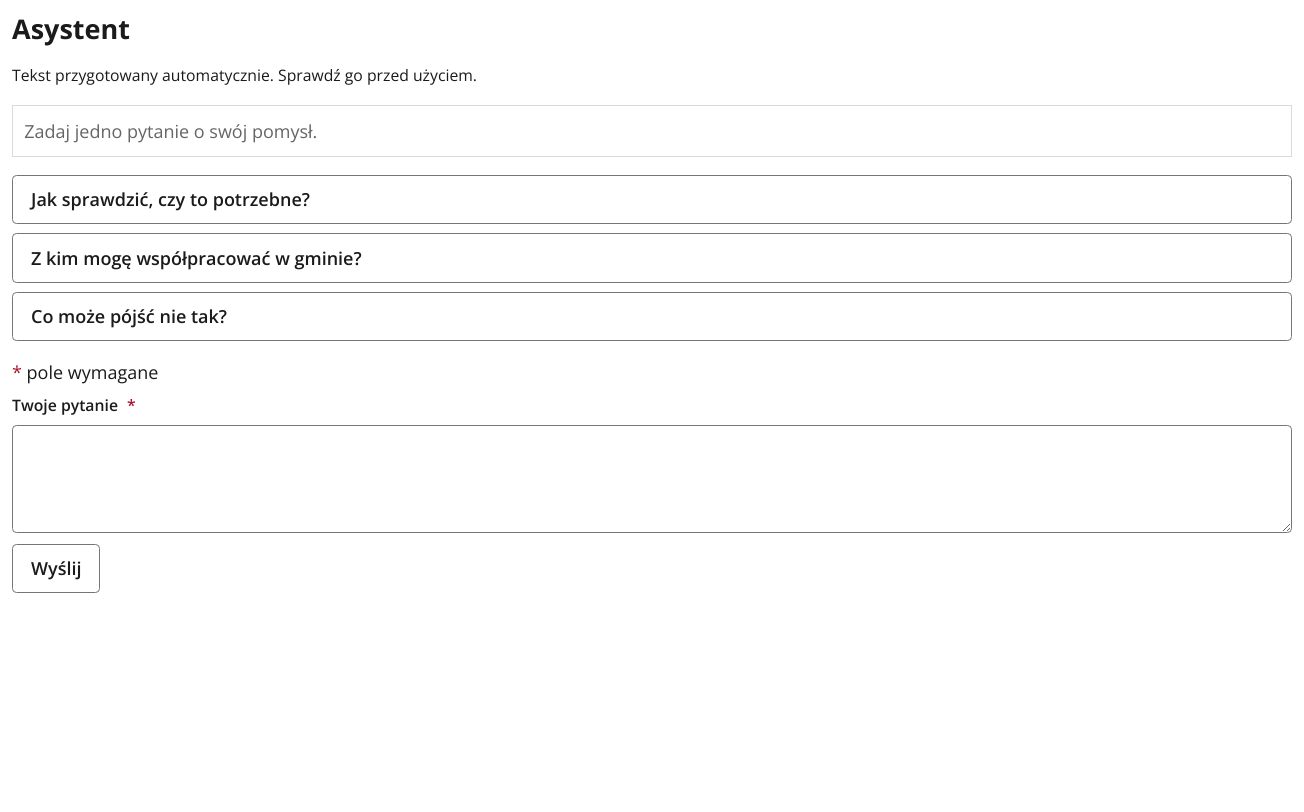
Test: renders a Markdown reply as bold text and a list, and the question as plain text
The image size is (1304, 812).
In the text box labelled "Twoje pytanie *": {"x": 652, "y": 479} [12, 425, 1292, 533], type "Pytanie **bez** formatowania"
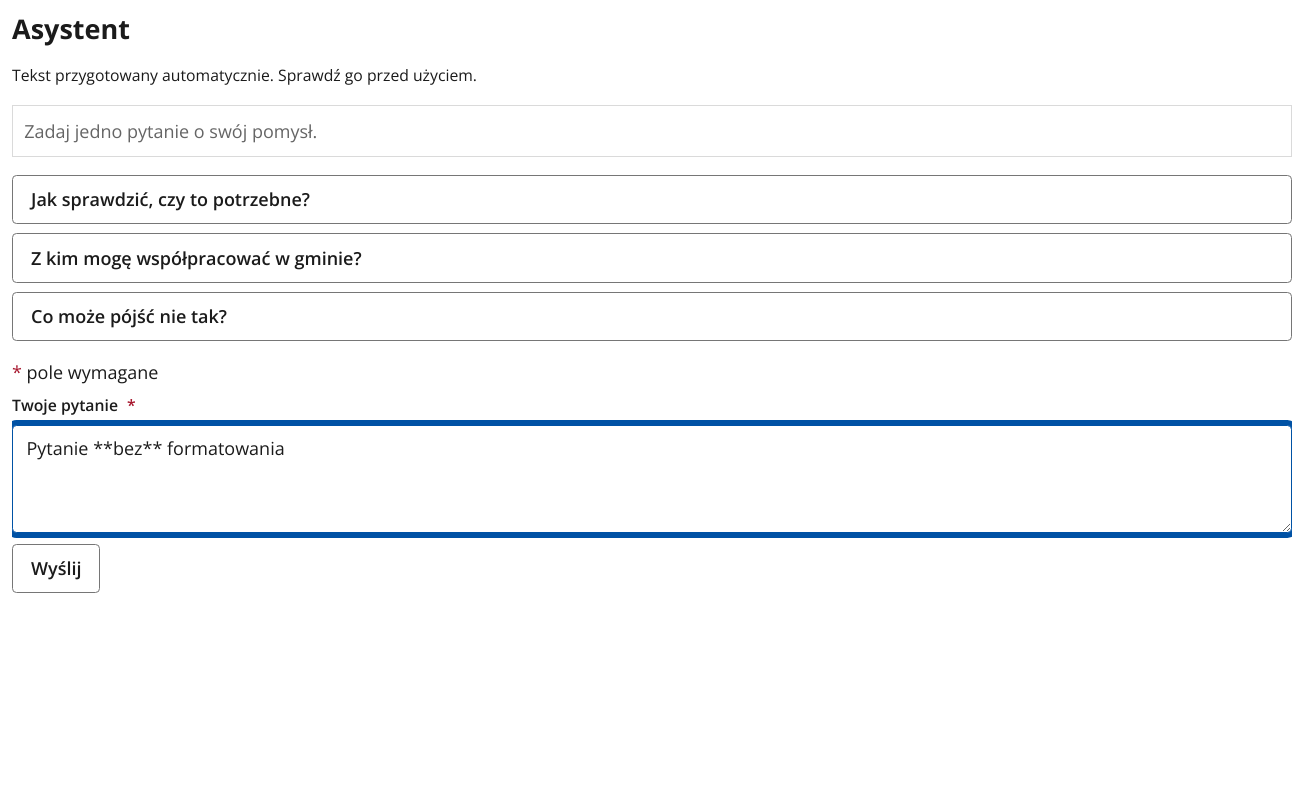
Click the button "Wyślij": {"x": 56, "y": 569} [12, 544, 100, 593]
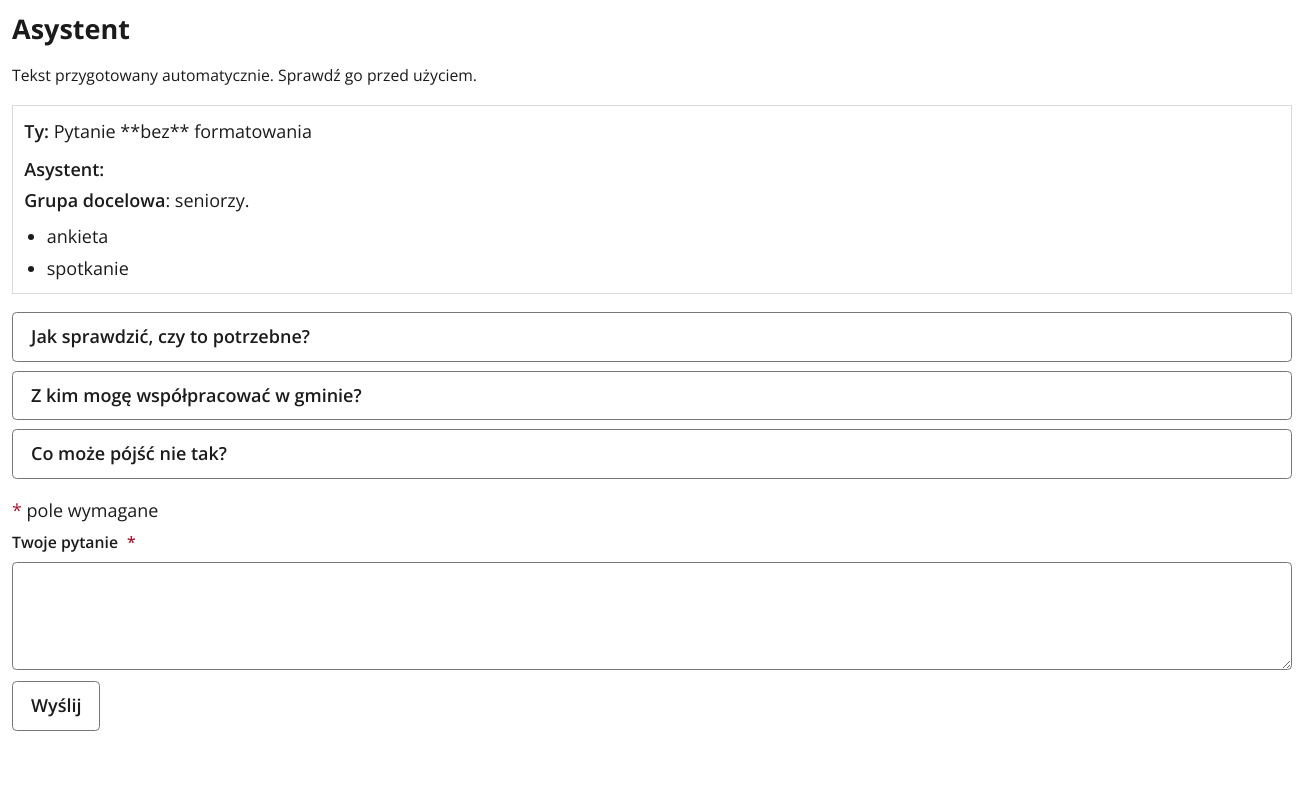
Expected: the text "Grupa docelowa" is shown, [24, 188, 166, 212]
Expected: the element that starts with "Ty:" shows "Asystent:", [24, 157, 104, 181]
